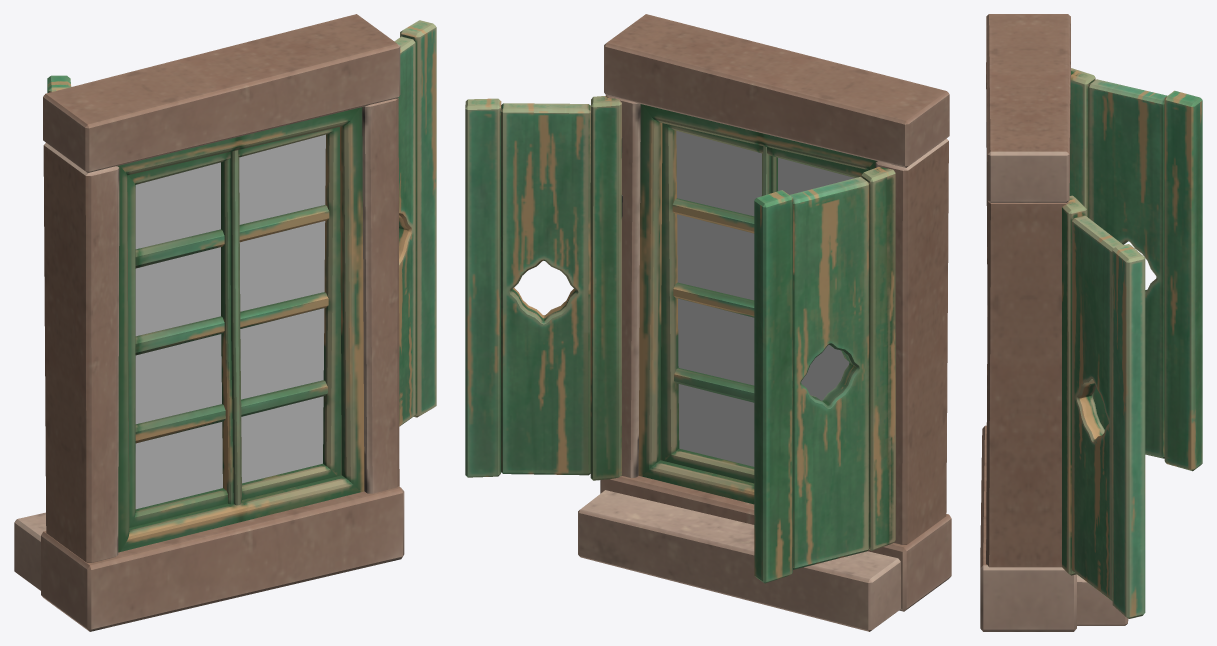
Rendered from SM_Windows_01.fbx.
3 renders of one model, left to right at view 1: azimuth 30°, elevation 25°; view 2: azimuth 150°, elevation 25°; view 3: azimuth 270°, elevation 25°, orthographic. The views are drawn at different scales.
Parts seen in each view (by area): view 1: SM_Windows_01_LOD0; view 2: SM_Windows_01_LOD0; view 3: SM_Windows_01_LOD0.
Boxes of the visible parts, <box> form: SM_Windows_01_LOD0: <box>14,14,436,631</box>; SM_Windows_01_LOD0: <box>465,14,951,631</box>; SM_Windows_01_LOD0: <box>980,14,1202,631</box>.
Bounding box in the file's own units: 92.07 × 44.54 × 106.
2 materials, 1 textured.
